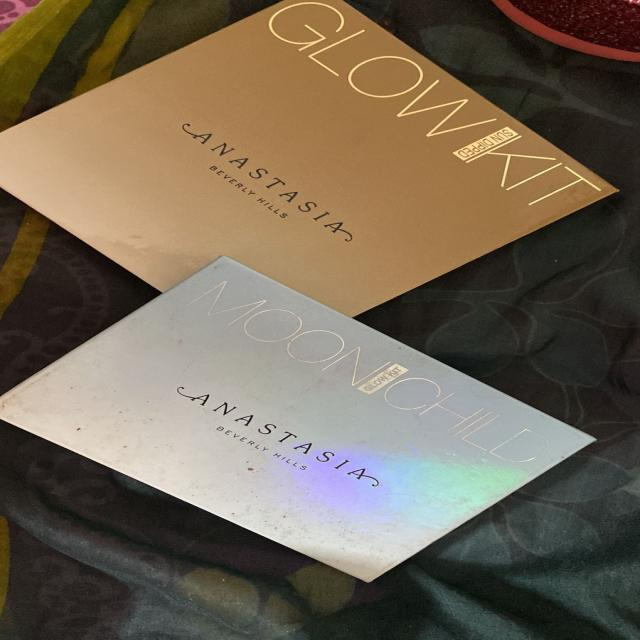makeup: (0, 250, 634, 591), (0, 0, 626, 314)
